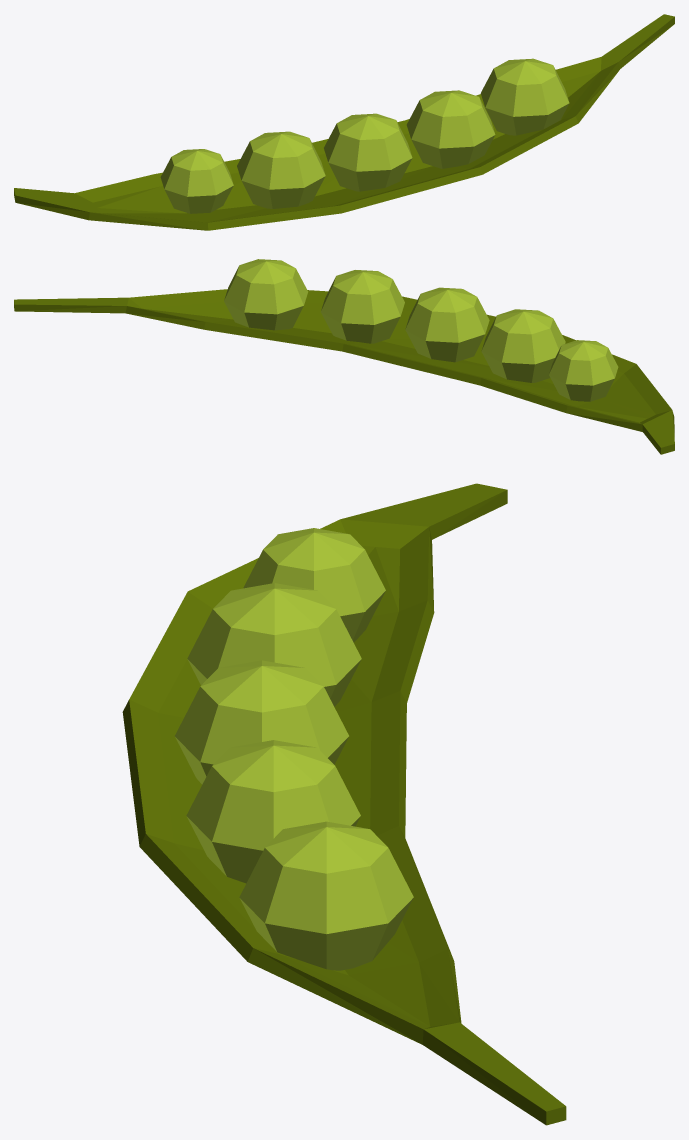
Rendered from 55f31ef7-c864-4d4f-b009-a236fb2cec24.glb.
The picture shows the model from 3 angles, top to bottom: view 1: azimuth 30°, elevation 25°; view 2: azimuth 150°, elevation 25°; view 3: azimuth 270°, elevation 25°; orthographic projection. The views are drawn at different scales.
Visible parts, largest first — view 1: Pea_Pod; view 2: Pea_Pod; view 3: Pea_Pod.
Boxes of the visible parts, x1,y1,x2,y2 form: Pea_Pod: (14,14,674,230); Pea_Pod: (14,259,674,454); Pea_Pod: (122,483,566,1125).
Bounding box in the file's own units: 98.84 × 10.58 × 29.5.
Materials: 1 (1 with a texture image).
